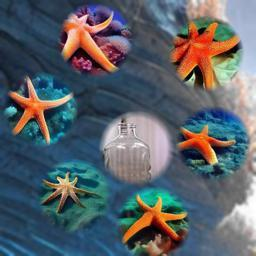not an animal: (102, 116, 165, 177)
